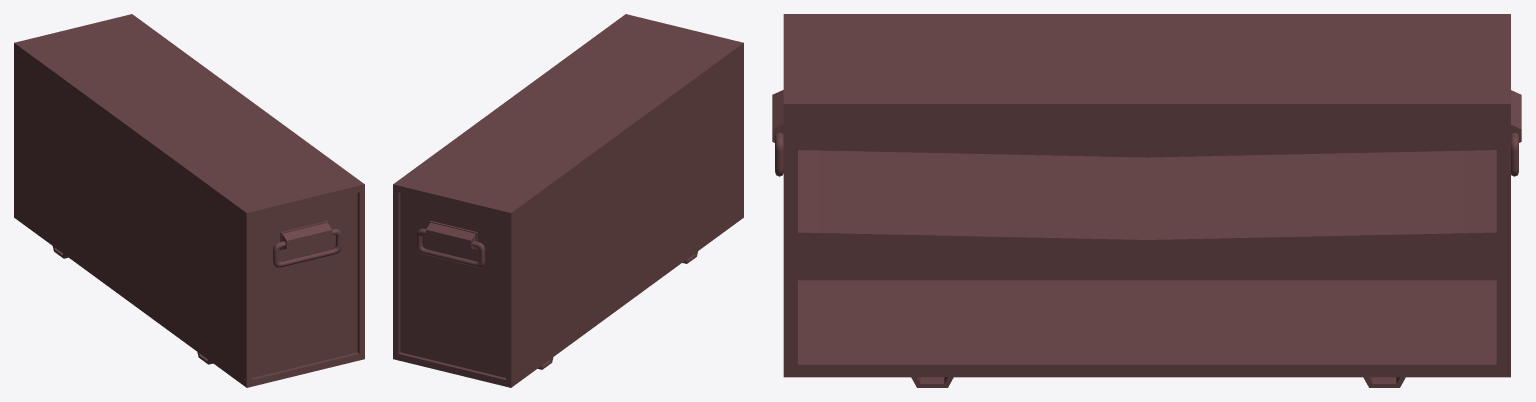
File: Stackable shelf.fbx
3 renders of one model, left to right at view 1: azimuth 30°, elevation 25°; view 2: azimuth 150°, elevation 25°; view 3: azimuth 270°, elevation 25°, orthographic. The views are drawn at different scales.
Visible parts, largest first — view 1: pCube30; view 2: pCube30; view 3: pCube30.
Part boxes in pixels (x1,y1,x2,y2): pCube30: (14, 14, 364, 387); pCube30: (393, 14, 743, 387); pCube30: (772, 14, 1521, 387).
Size of the model in its own units: 31.35 by 46.67 by 110.
